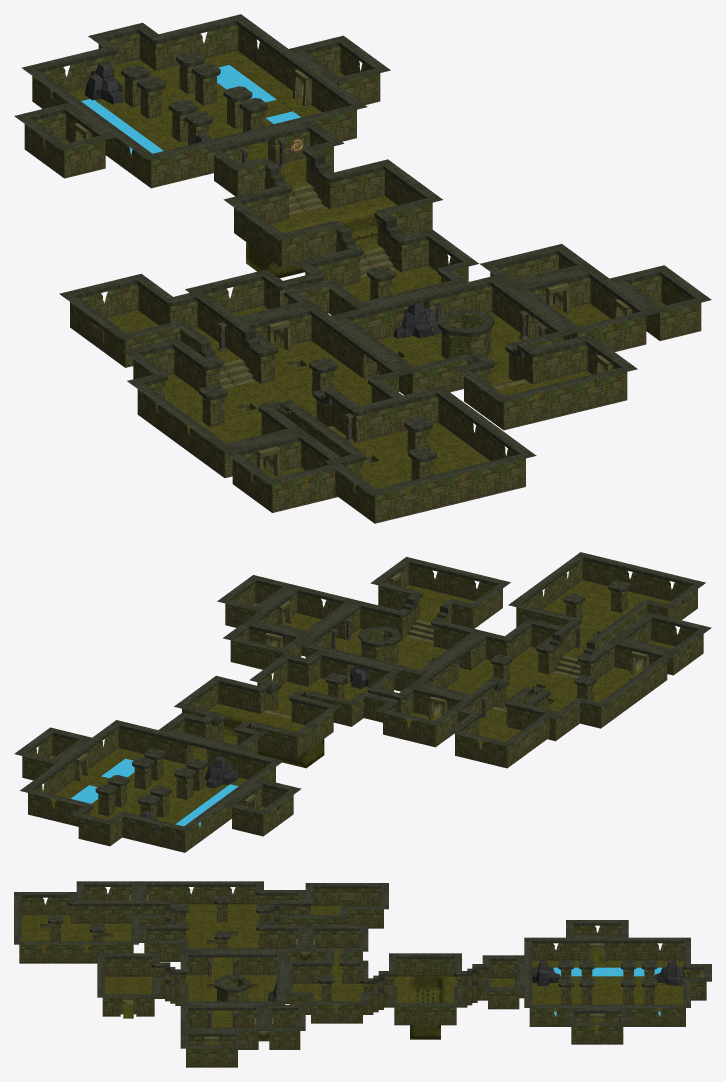
The model's file is Forest Level.fbx.
The picture shows the model from 3 angles, top to bottom: view 1: azimuth 30°, elevation 25°; view 2: azimuth 150°, elevation 25°; view 3: azimuth 270°, elevation 25°; orthographic projection. The views are drawn at different scales.
Parts seen in each view (by area): view 1: forest_large_tile; view 2: forest_large_tile; view 3: forest_large_tile.
Boxes of the visible parts, x1,y1,x2,y2 form: forest_large_tile: [14, 14, 711, 523]; forest_large_tile: [14, 552, 711, 852]; forest_large_tile: [14, 881, 711, 1067].
Size of the model in its own units: 760 by 95 by 1340.
